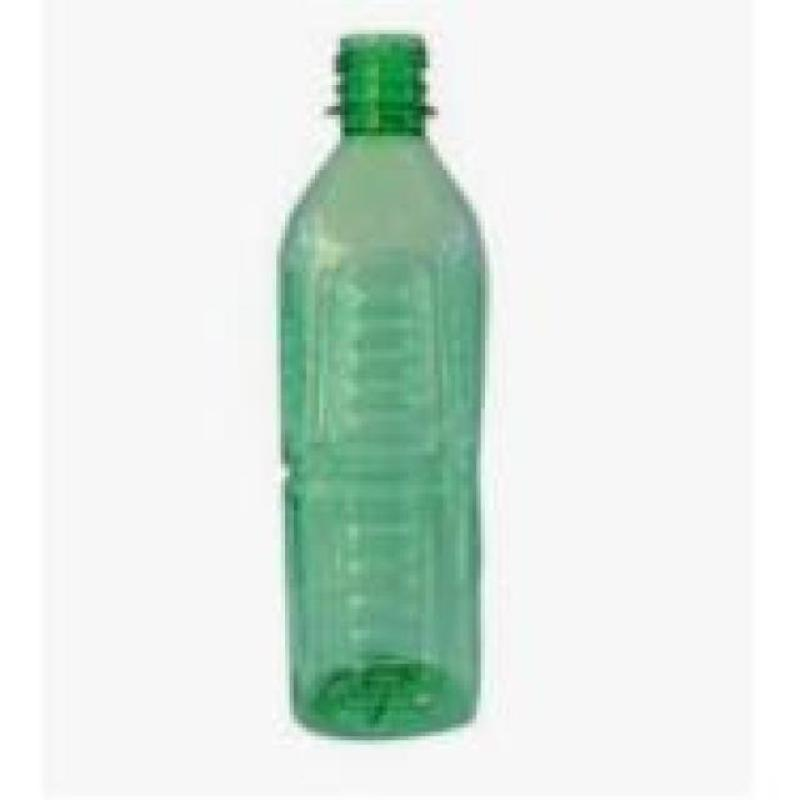botella: (274, 34, 487, 732)
